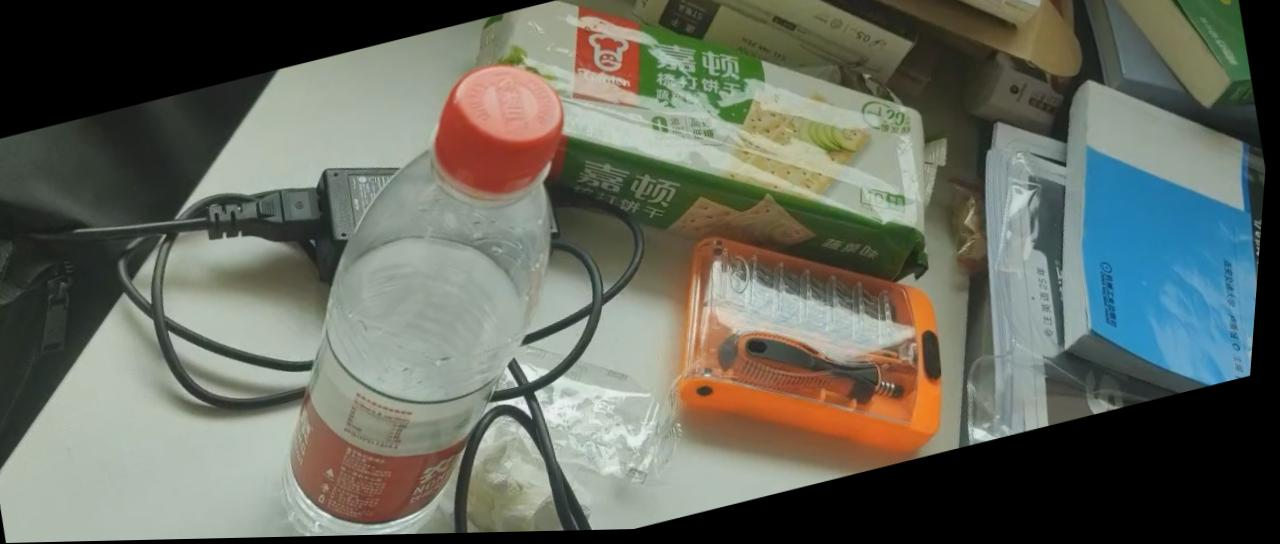plastic: (193, 64, 672, 533), (522, 209, 962, 527), (961, 5, 1262, 441)
